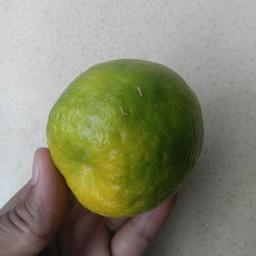Good_orange: (44, 57, 208, 220)
